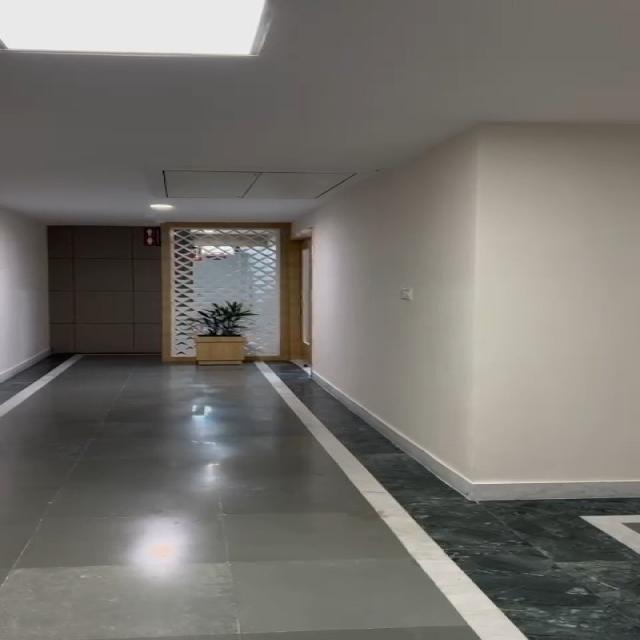door: (49, 226, 304, 366)
floor: (16, 380, 378, 640)
furniture: (188, 292, 258, 368)
wall: (315, 0, 640, 484)
